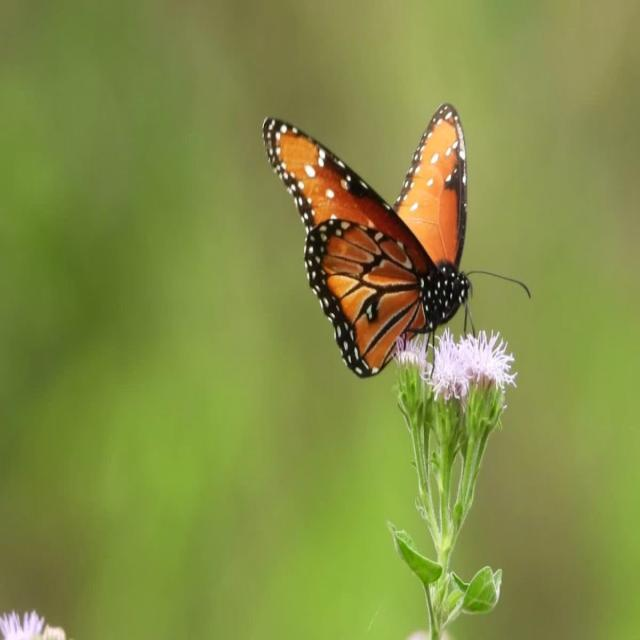butterfly: (262, 103, 530, 377)
